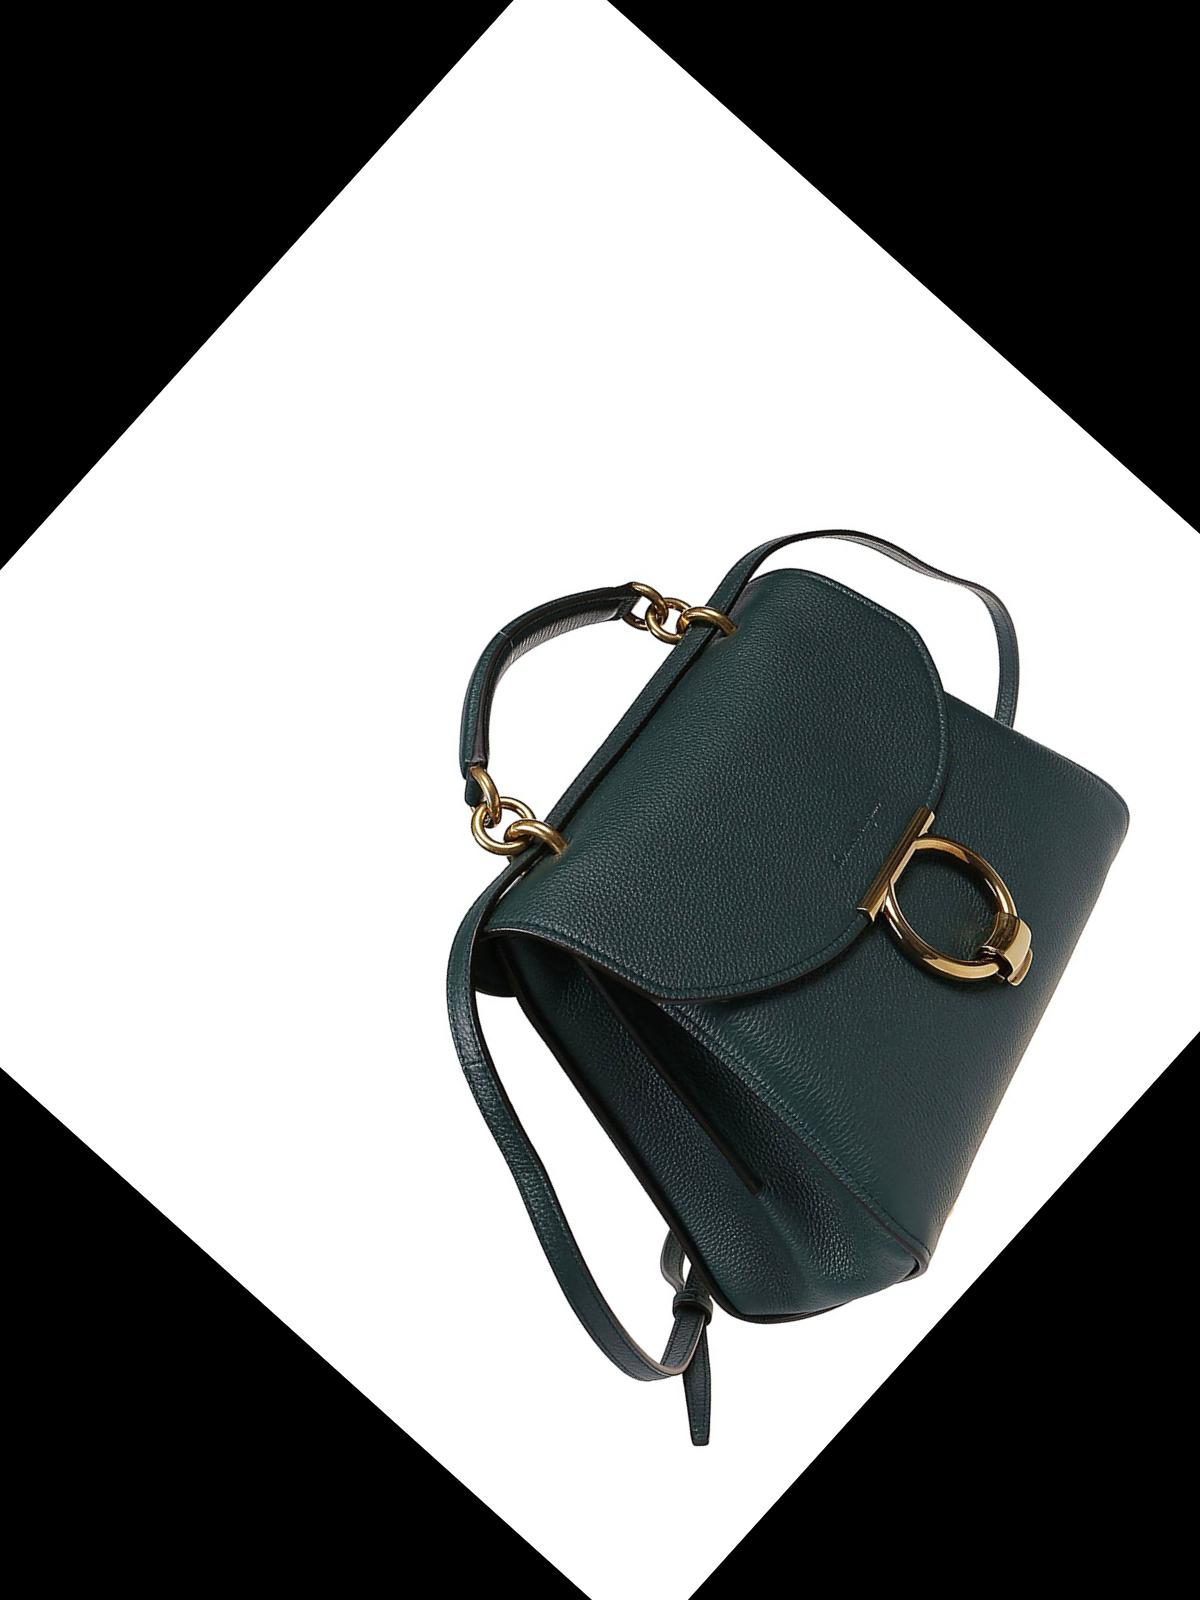FERRAGAMO: (788, 737, 1139, 1085)
